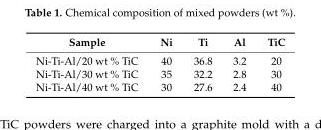table: (35, 35, 284, 92)
table column: (35, 35, 148, 92), (182, 35, 221, 92), (221, 35, 256, 92), (148, 35, 182, 92), (256, 35, 284, 92)
table column header: (35, 35, 284, 51)
table row: (35, 35, 284, 51), (35, 51, 284, 66), (35, 66, 284, 79), (35, 79, 284, 92)
